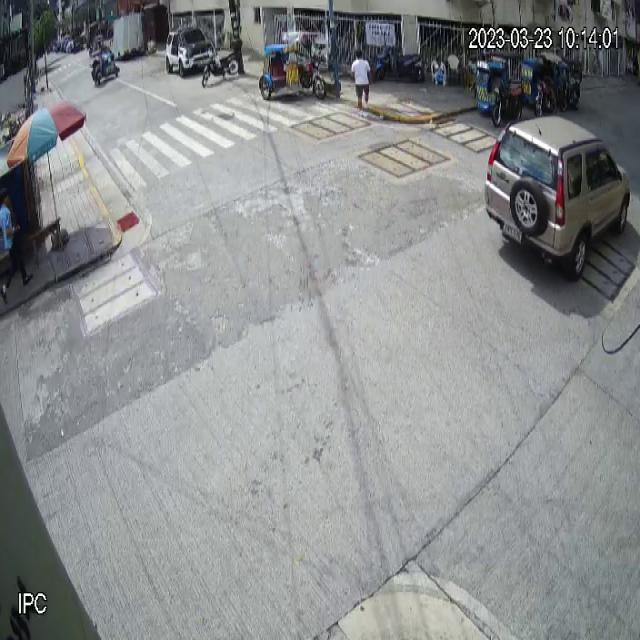Car: (485, 112, 632, 282)
Tricycle: (258, 30, 327, 101), (475, 50, 524, 128)
